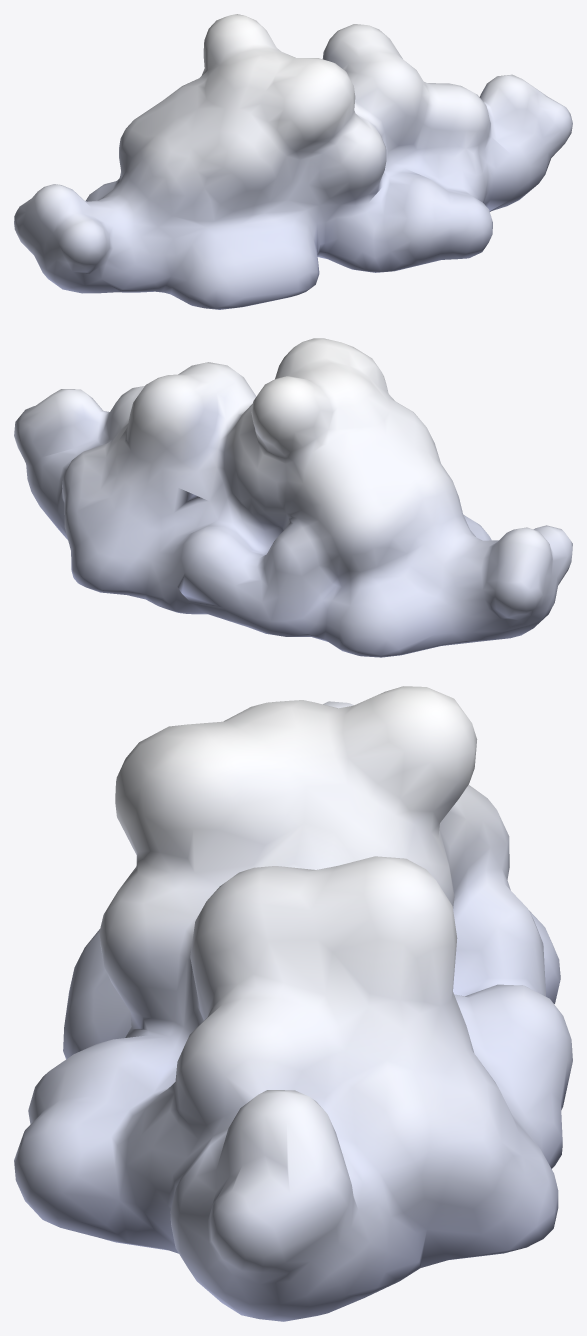
The model's file is NubeCumulo2.fbx.
3 views of the same model, one above another, from view 1: azimuth 30°, elevation 25°; view 2: azimuth 150°, elevation 25°; view 3: azimuth 270°, elevation 25° (orthographic). The views are drawn at different scales.
Parts seen in each view (by area): view 1: NubeCumulo2; view 2: NubeCumulo2; view 3: NubeCumulo2.
Part boxes in pixels (x1,y1,x2,y2): NubeCumulo2: [14, 14, 572, 309]; NubeCumulo2: [14, 338, 572, 657]; NubeCumulo2: [14, 686, 572, 1321].
Size of the model in its own units: 300 by 119 by 145.
1 material, 1 textured.
